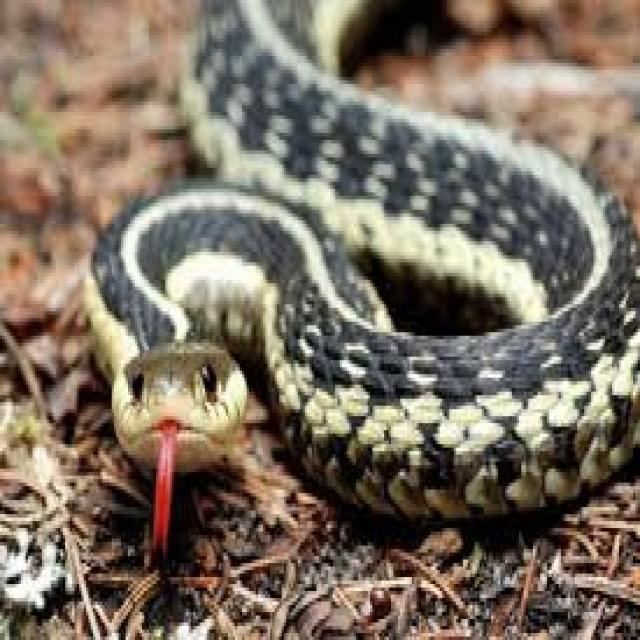snake: (86, 0, 638, 546)
